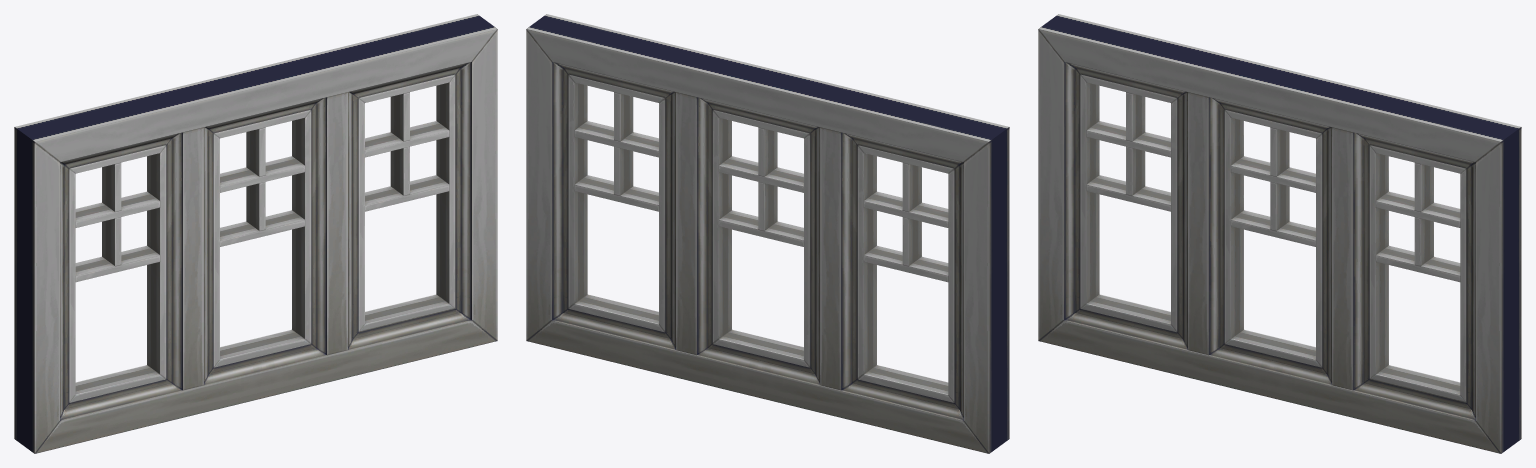
Rendered from ventanaTriptico.fbx.
3 views of the same model, side by side, from view 1: azimuth 30°, elevation 25°; view 2: azimuth 150°, elevation 25°; view 3: azimuth 330°, elevation 25° (orthographic).
Parts seen in each view (by area): view 1: ventana; view 2: ventana; view 3: ventana.
Part boxes in pixels (box(x1,y1,x2,y2)): ventana: box(14, 14, 497, 453); ventana: box(526, 14, 1009, 453); ventana: box(1038, 14, 1521, 453).
Bounding box in the file's own units: 255 × 164 × 19.39.
3 materials, 3 textured.
